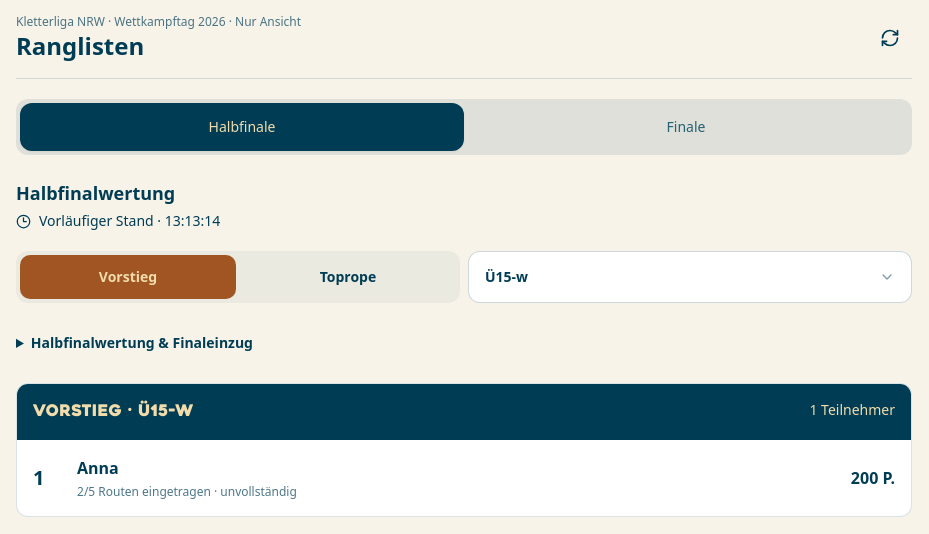
Test: moderator participant ranking view › loads public rankings without login or score editing and preserves manual class choice through refreshes
The image size is (929, 534).
Check: the text "Anna" is shown, box [77,457,119,479]
Click the button "Toprope": (348, 277) [240,255,456,299]
Wait 20000 ms
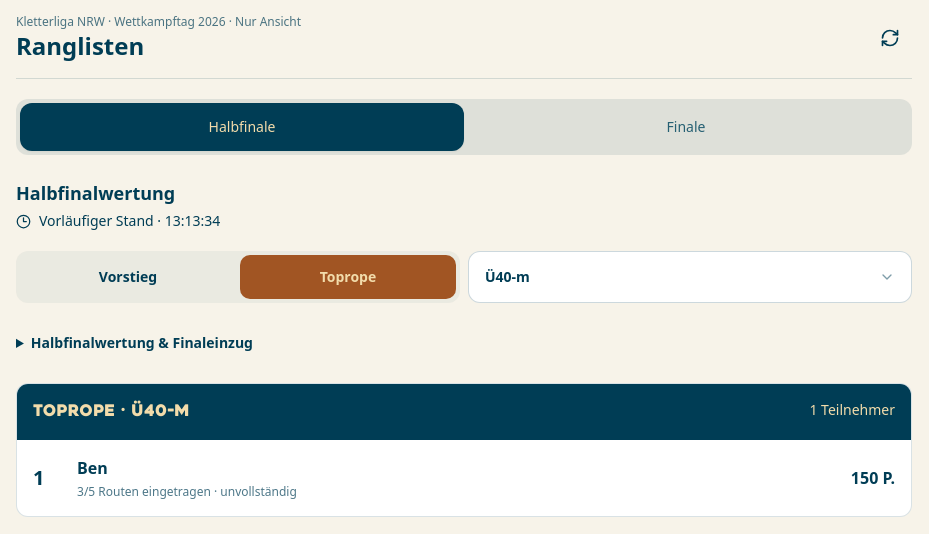
Check: the dropdown named "Klasse" is shown, box [468,251,912,303]
Check: the text "Ben" is shown, box [77,457,108,479]
Check: the text "Anna" is gone
